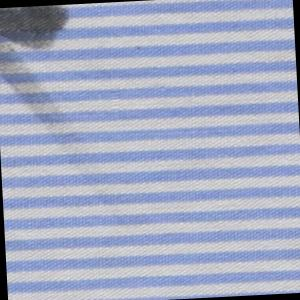Stain: (1, 3, 111, 193)
